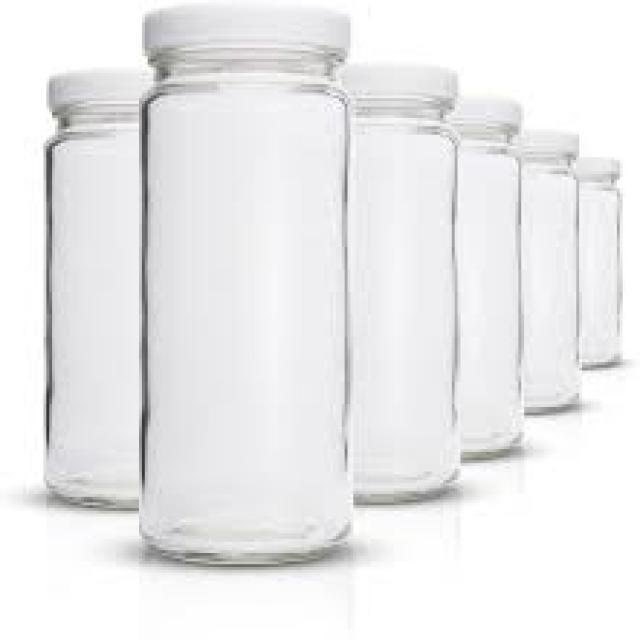Glass: (142, 61, 359, 564), (38, 127, 180, 516), (346, 106, 453, 504), (449, 140, 519, 460), (518, 158, 582, 414), (579, 184, 621, 368)
